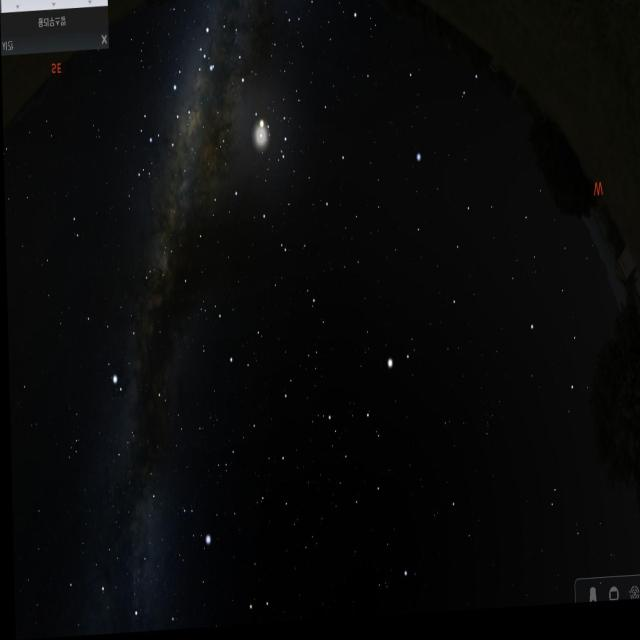aquila: (90, 258, 168, 444)
bootes: (322, 330, 422, 526)
lyra: (174, 498, 208, 554)
moon: (242, 117, 272, 172)
sagittarius: (122, 59, 200, 184)
scorpius: (198, 15, 292, 184)
